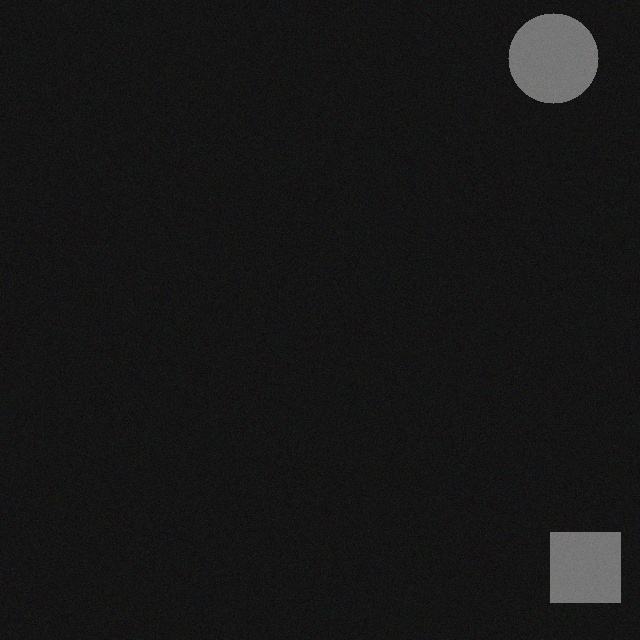circle: (499, 7, 589, 97)
square: (541, 526, 611, 596)
